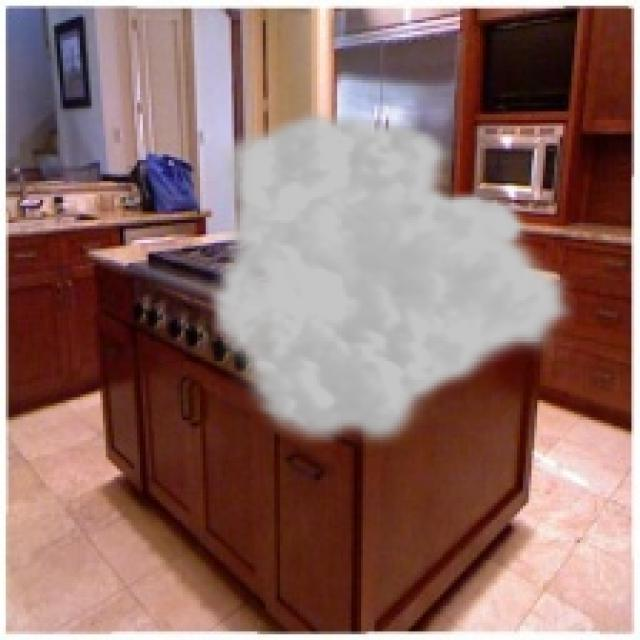smoke: (206, 106, 580, 454)
